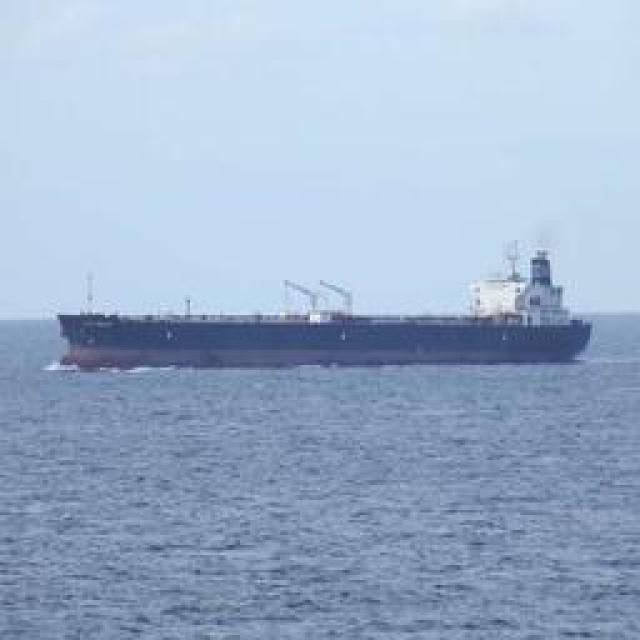Ship: (41, 266, 596, 366)
